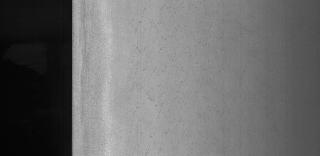silk spot: (130, 13, 212, 141)
